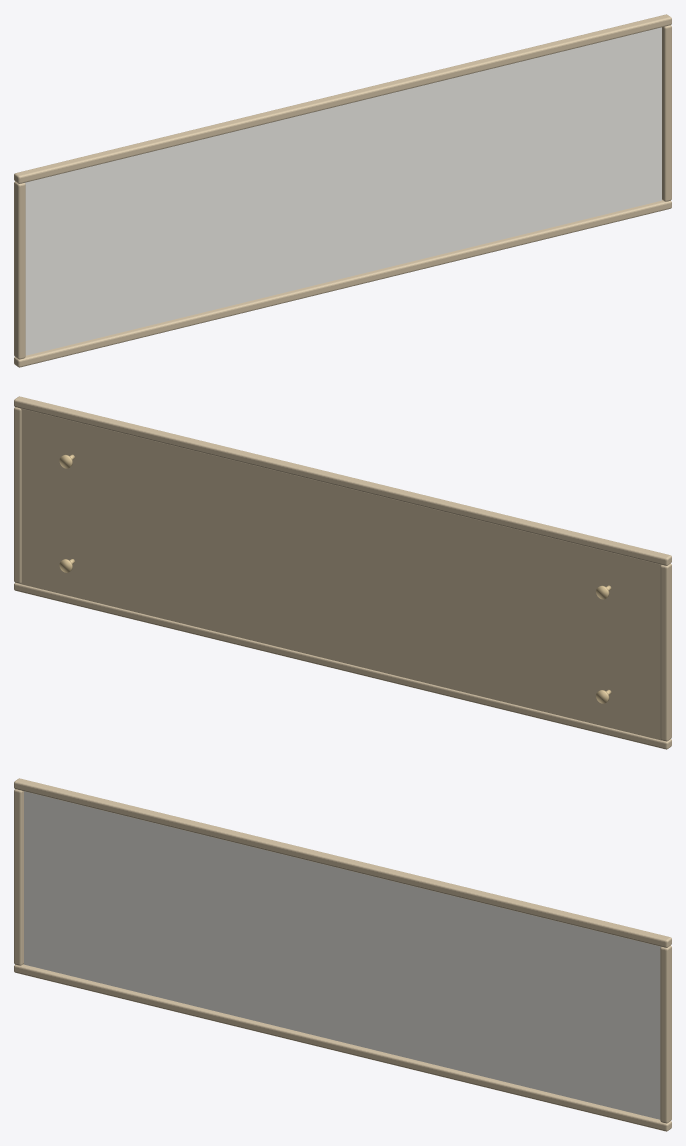
Rendered from tableau.glb.
3 views of the same model, one above another, from view 1: azimuth 30°, elevation 25°; view 2: azimuth 150°, elevation 25°; view 3: azimuth 330°, elevation 25° (orthographic).
Visible parts, largest first — view 1: Tableau_Texte, Tableau; view 2: Tableau; view 3: Tableau_Texte, Tableau.
Part boxes in pixels (x1=…): Tableau_Texte: x1=25, y1=27, x2=661, y2=355; Tableau: x1=14, y1=14, x2=671, y2=367; Tableau: x1=14, y1=396, x2=671, y2=749; Tableau_Texte: x1=24, y1=791, x2=660, y2=1119; Tableau: x1=14, y1=778, x2=671, y2=1131.
Size of the model in its own units: 1.54 by 0.43 by 0.049.
